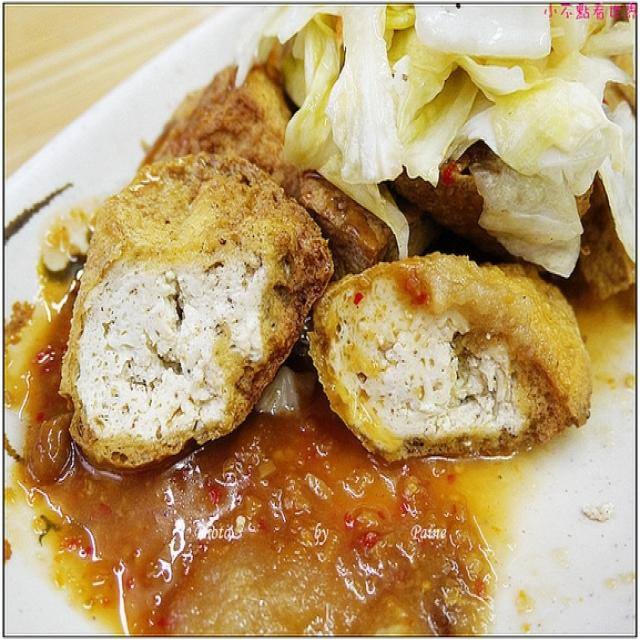豆腐料理: (10, 10, 631, 621)
